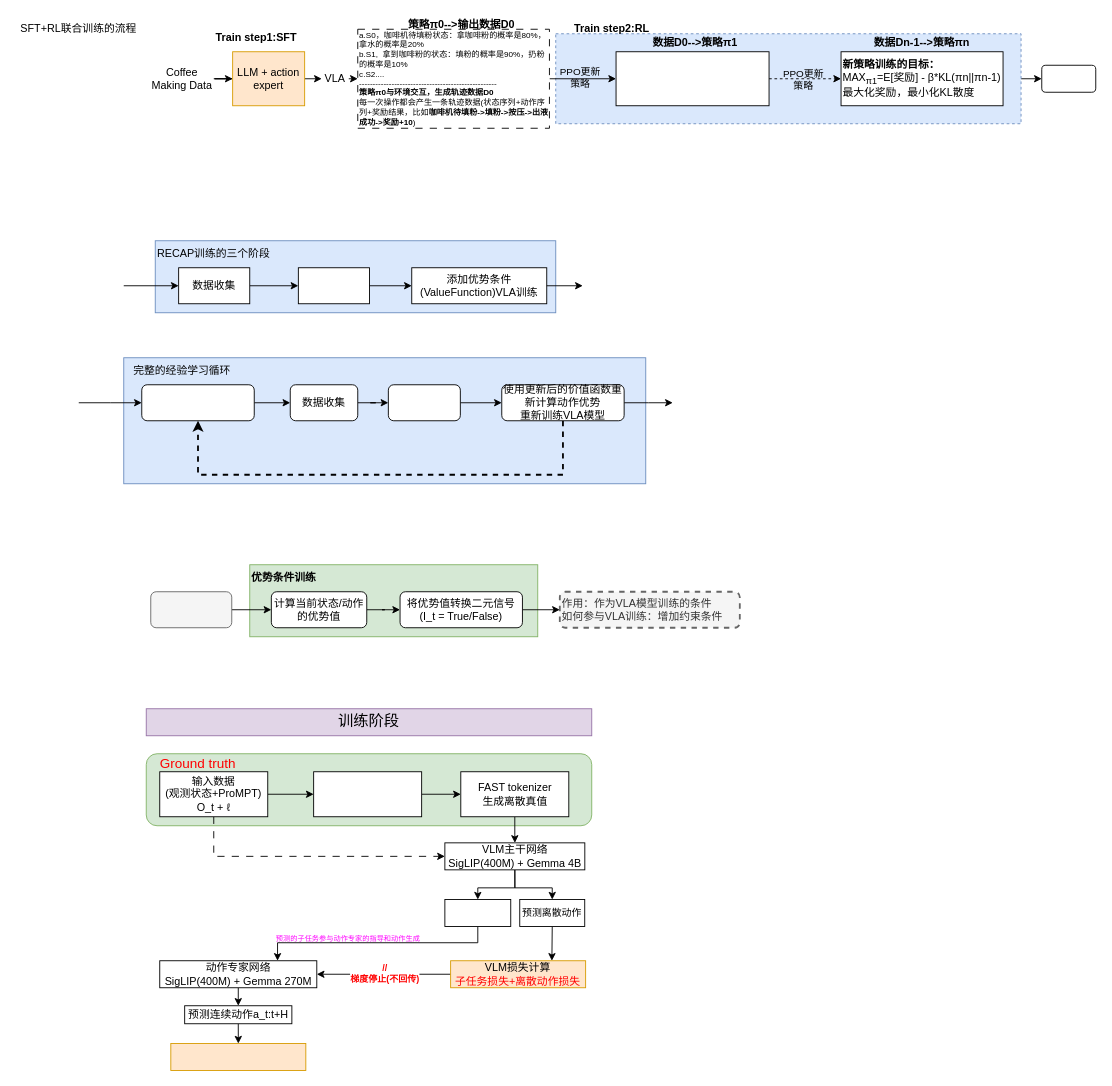
Some shapes in this 1112 by 1086 pixel diagram are drawn without their labels. Each missing label, with the centre of its shape:
价值函数更新: point (423, 402)
价值函数训练: point (333, 285)
动作专家损失计算 流匹配损失: point (238, 1057)
新策略训练的目标： MAX π1 =E[奖励] - β*KL(π1||π0) 最大化奖励，最小化KL散度: point (692, 78)
最终模型 VLA: point (1068, 78)
演示数据处理 连续动作真值: point (367, 794)
训练的价值函数: point (191, 609)
运行当前的策略 (也就是VLA执行任务): point (197, 402)
预测子任务ℓ ^: point (477, 913)
